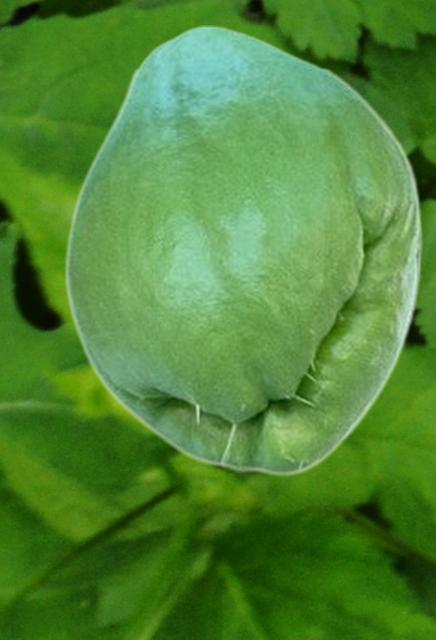sayote: (63, 25, 422, 477)
